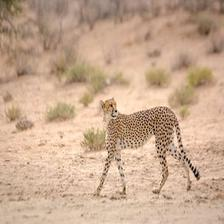Cheetah: (91, 97, 204, 196)
